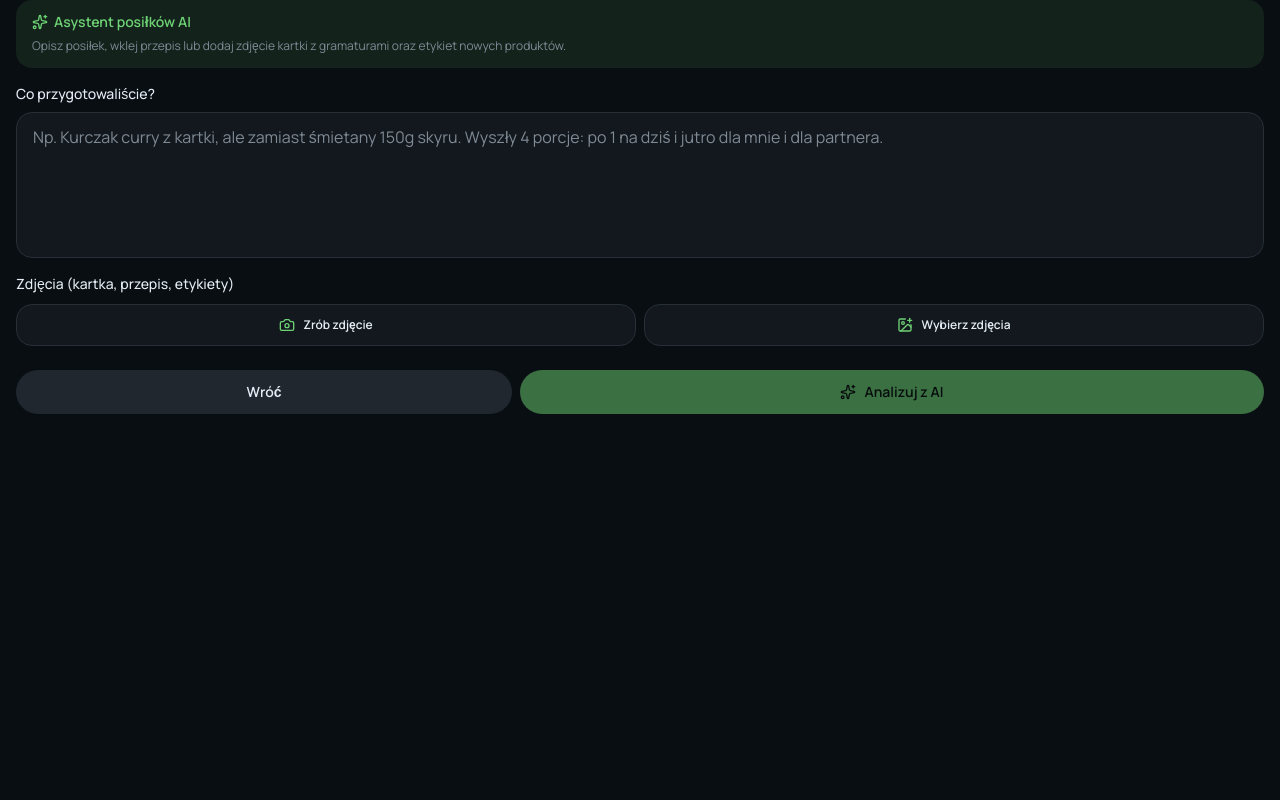
Scenario: AiMealAssistant › wyświetla zakładki dla dwóch talerzy, rozwija składnik po kliknięciu i pozwala wyczyścić gramaturę bez wskakującego zera
Replace the text in the text box labelled "Co przygotowaliście?" with "Kartka N i W". click: (640, 184)
box: x1=16 y1=112 x2=1264 y2=258
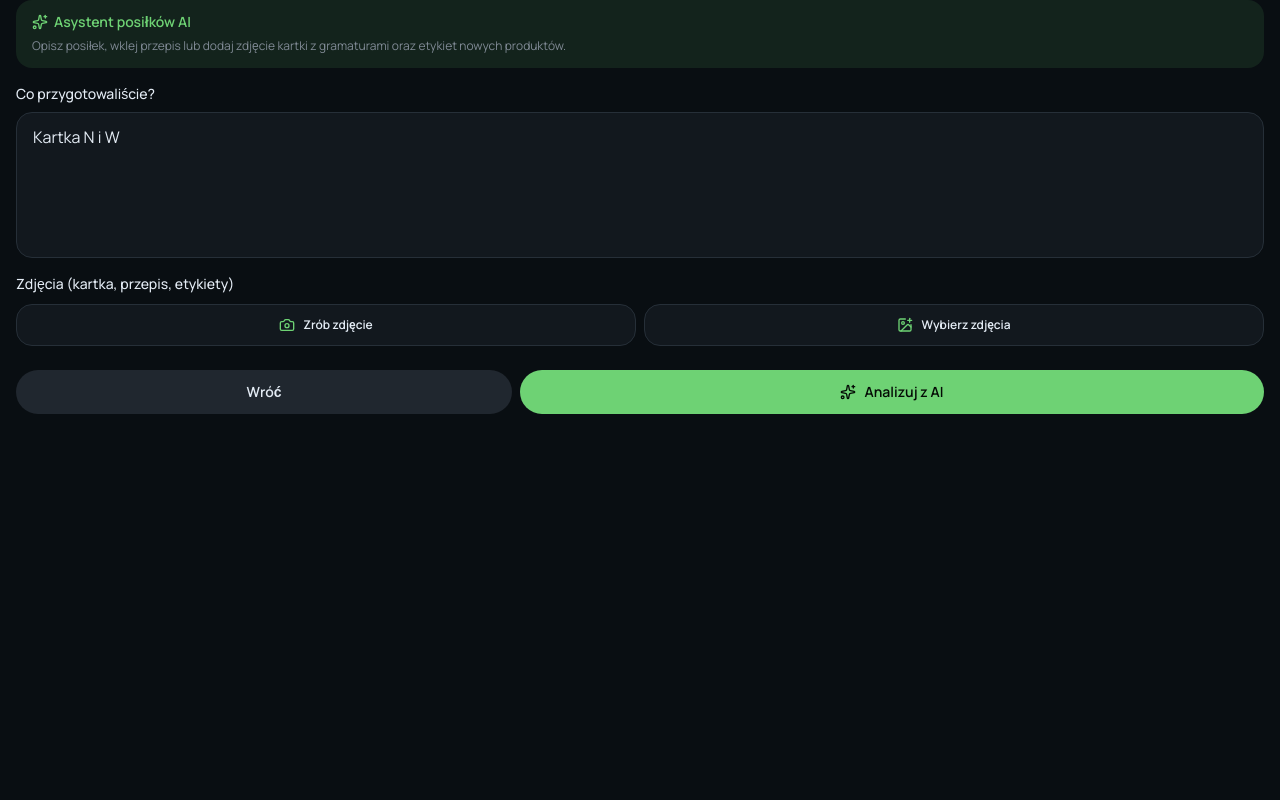
Click the button "Analizuj z AI". click: click(892, 392)
box: x1=520 y1=370 x2=1264 y2=414
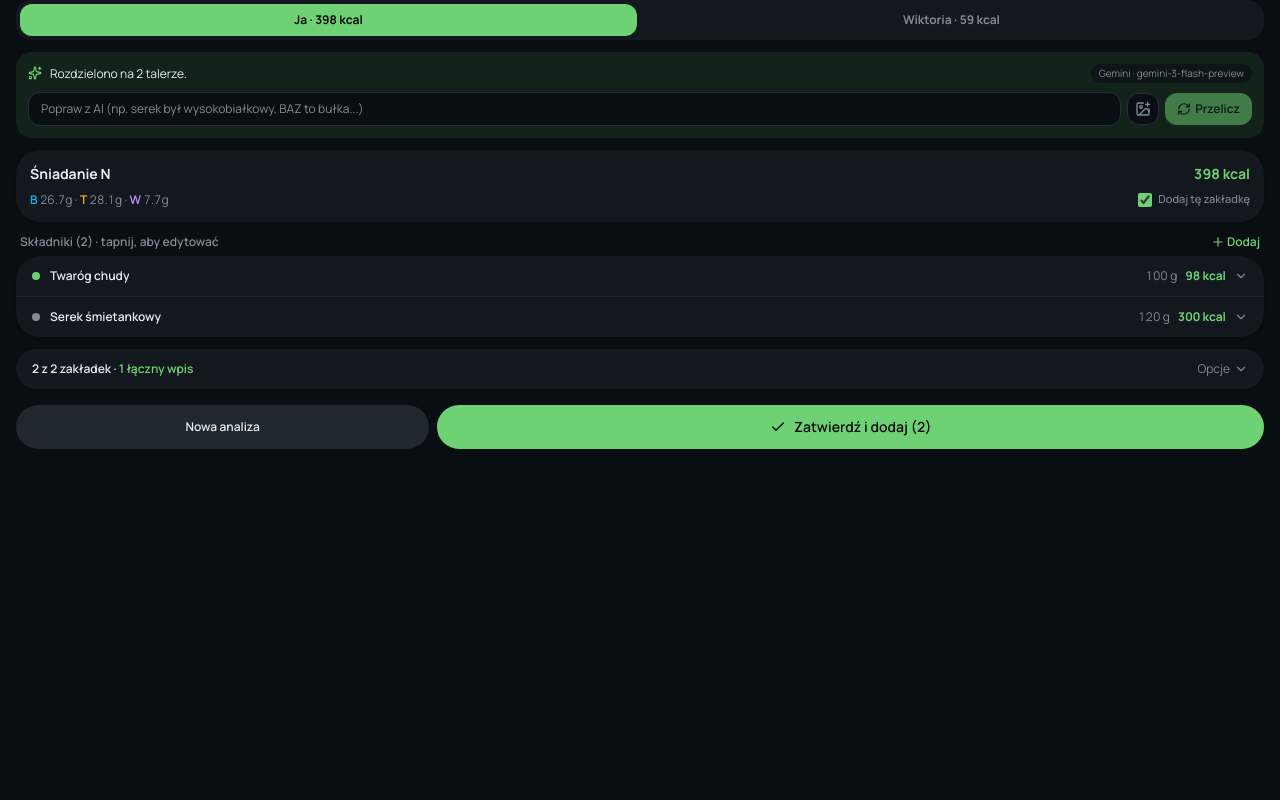
expect the button "Ja · 398 kcal" is shown: met, box x1=20 y1=4 x2=637 y2=36
expect the button "Wiktoria · 59 kcal" is shown: met, box x1=643 y1=4 x2=1260 y2=36
// Clicking a row expands only that ingredient
Click the button "Serek śmietankowy 120 g 300 kcal". click: click(106, 316)
box: x1=16 y1=296 x2=1264 y2=336
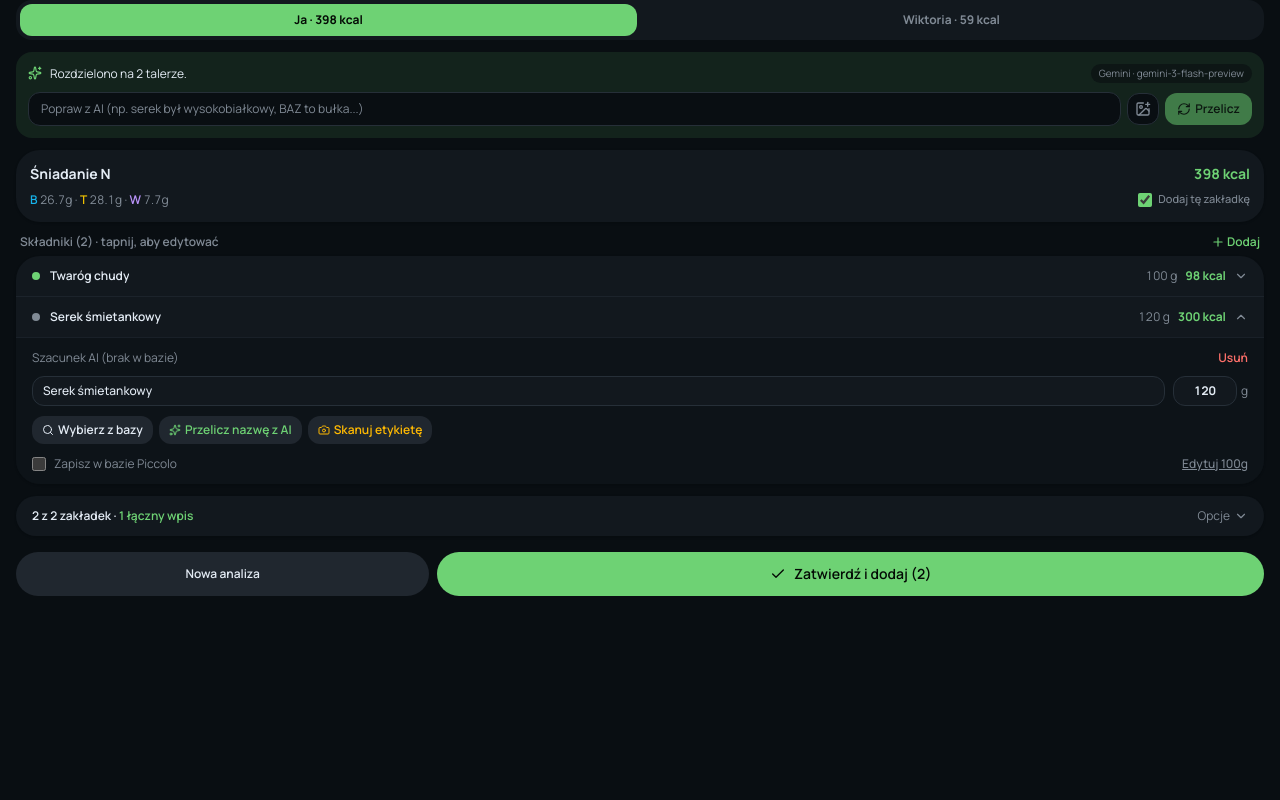
expect the field named "Gramatura składnika" holds "120": met
// Clearing to empty string must not snap back to "0"
Clear the field named "Gramatura składnika". click: (1205, 390)
box: x1=1173 y1=376 x2=1237 y2=406
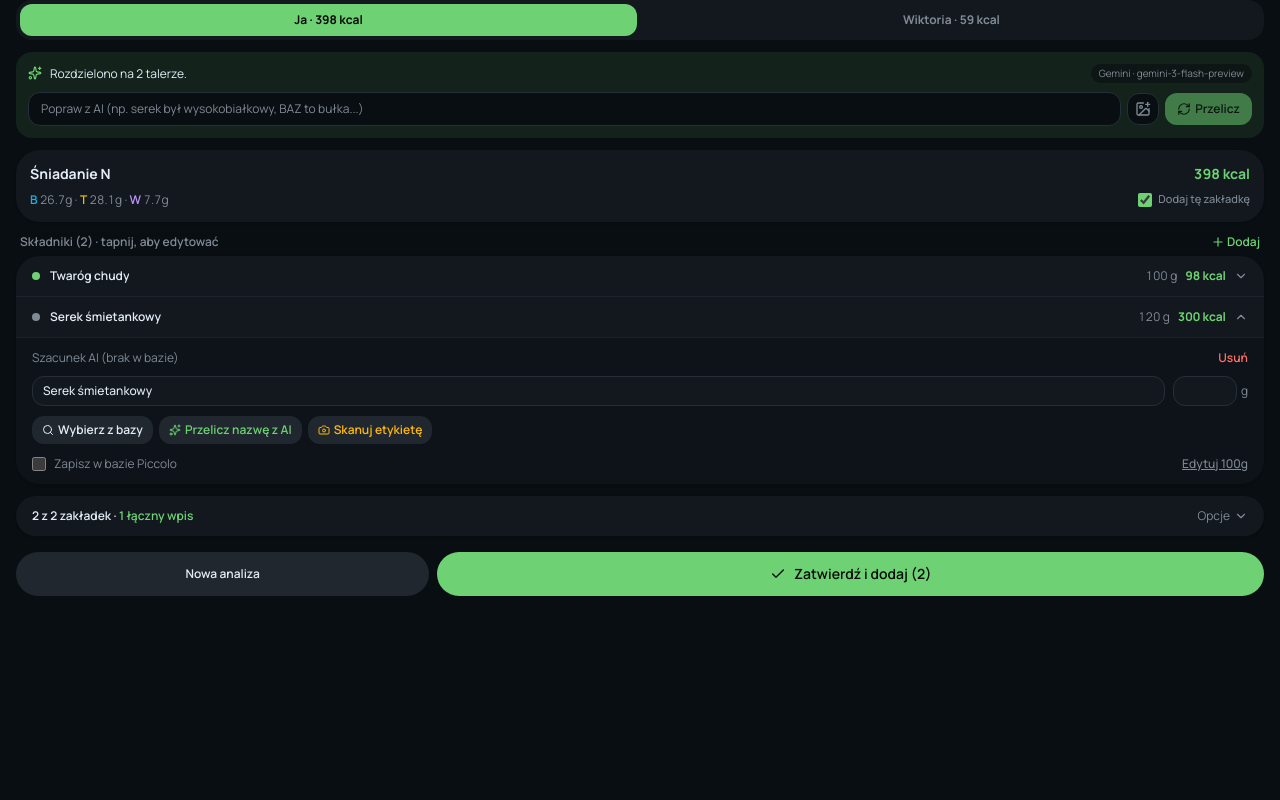
Type "30" into the field named "Gramatura składnika". click: (1205, 390)
box: x1=1173 y1=376 x2=1237 y2=406
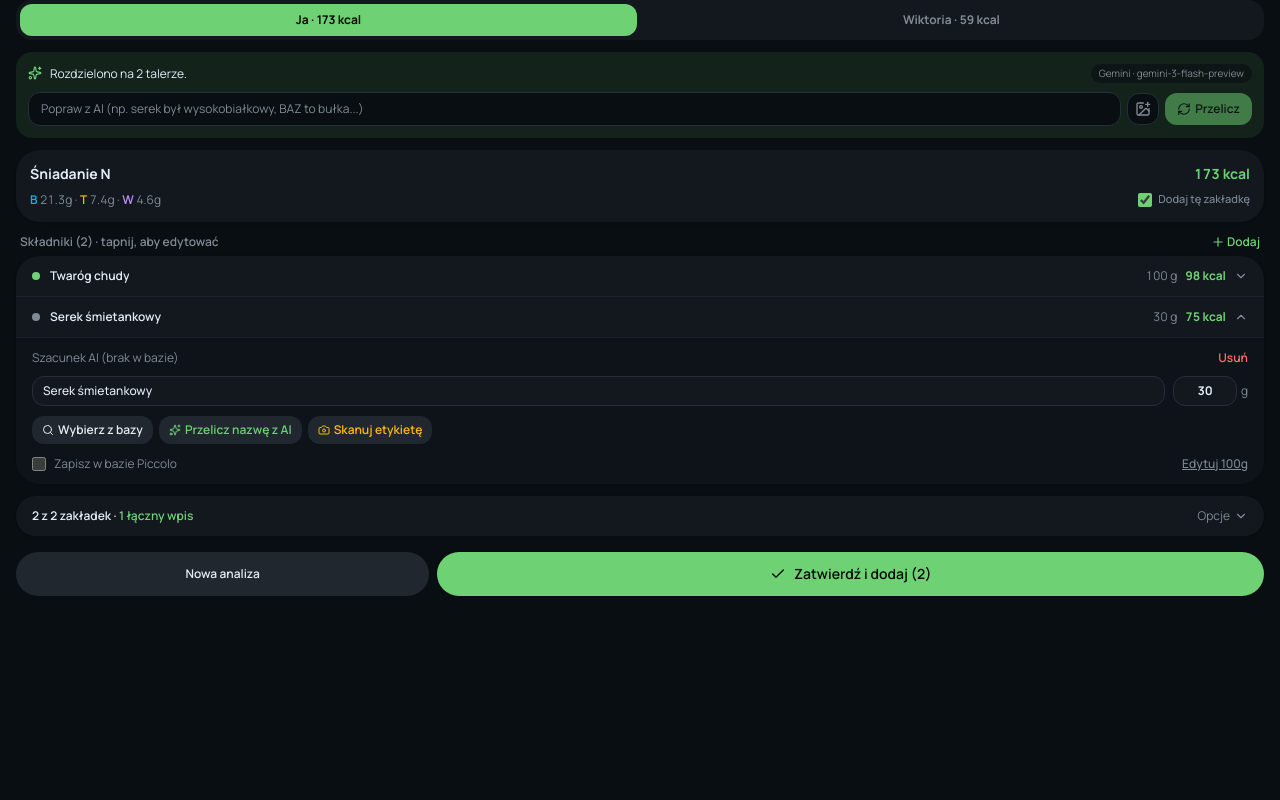
expect the text "173 kcal" is shown: met, box x1=1194 y1=164 x2=1250 y2=184
